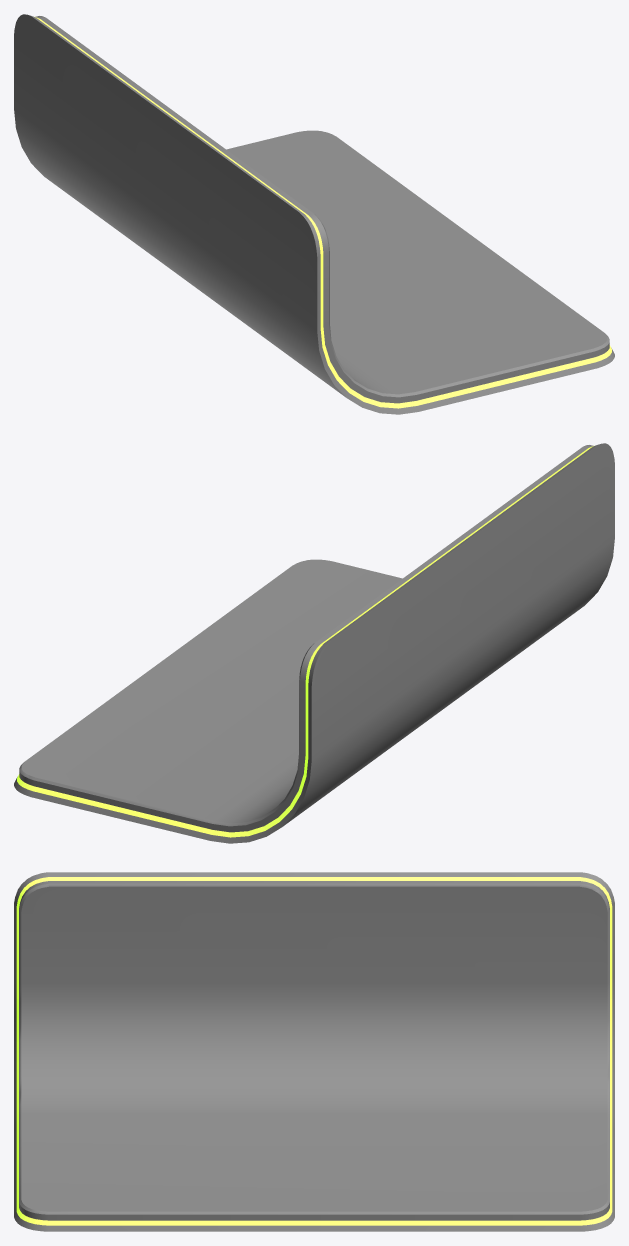
File: Presentoir_01.FBX
3 renders of one model, top to bottom at view 1: azimuth 30°, elevation 25°; view 2: azimuth 150°, elevation 25°; view 3: azimuth 270°, elevation 25°, orthographic.
Visible parts, largest first — view 1: Presentoir_01; view 2: Presentoir_01; view 3: Presentoir_01.
Boxes of the visible parts, box(x1,y1,x2,y2) form: Presentoir_01: box(14, 14, 614, 414); Presentoir_01: box(14, 443, 614, 843); Presentoir_01: box(14, 872, 614, 1231).
Bounding box in the file's own units: 2.35 × 1.52 × 3.96.
